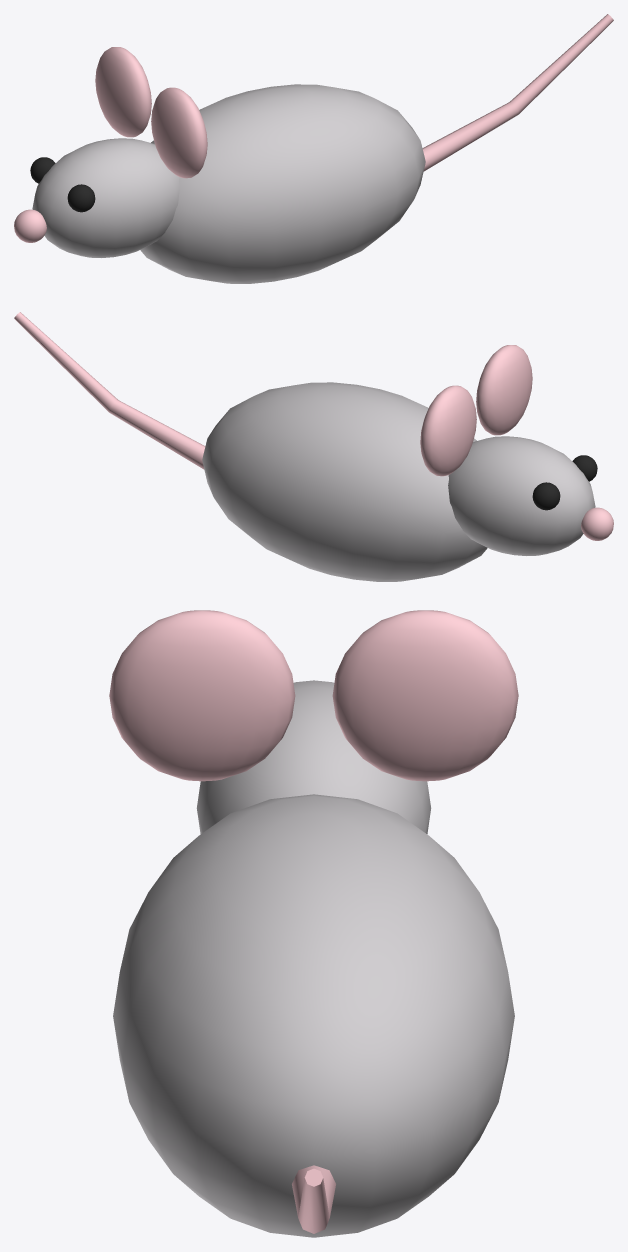
Rendered from mouse.glb.
3 views of the same model, one above another, from view 1: azimuth 30°, elevation 25°; view 2: azimuth 150°, elevation 25°; view 3: azimuth 270°, elevation 25° (orthographic). The views are drawn at different scales.
Visible parts, largest first — view 1: mouse; view 2: mouse; view 3: mouse.
Boxes of the visible parts, x1,y1,x2,y2 form: mouse: (14,14,613,283); mouse: (14,312,613,581); mouse: (109,610,518,1237).
Bounding box in the file's own units: 0.7408 × 0.272 × 0.22.
